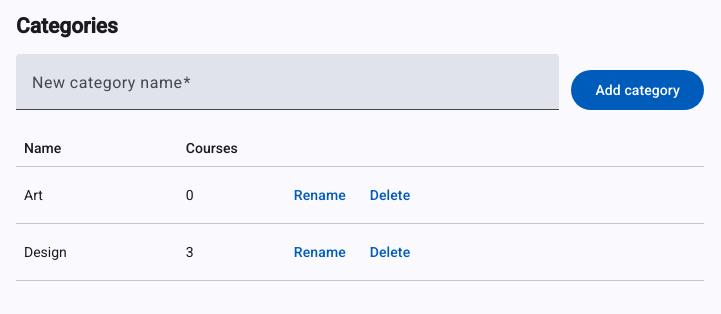
Test: AdminCategoriesComponent › US-27 S3: renames inline
This screenshot has width=721, height=314.
Click the button "Rename" at (320, 195), box [282,175,358,215]
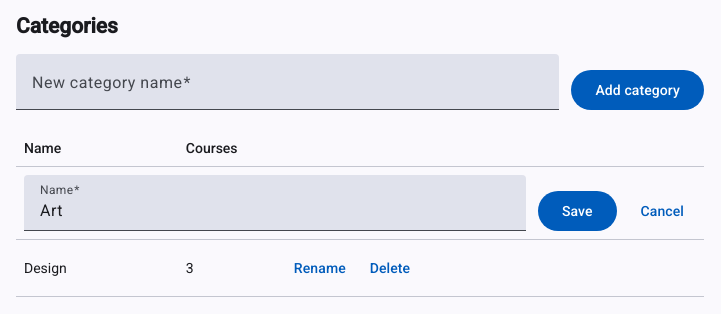
Expected: the field labelled "Name" holds "Art"
Replace the text in the field labelled "Name" with "Fine Art" at (275, 211), box [40,199,510,223]
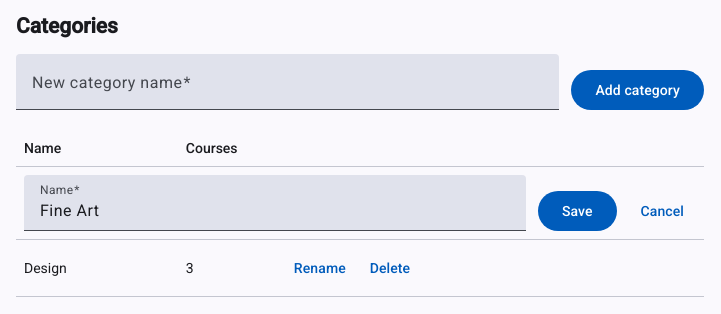
Submit the form with class "rename", box [24,175,696,231]
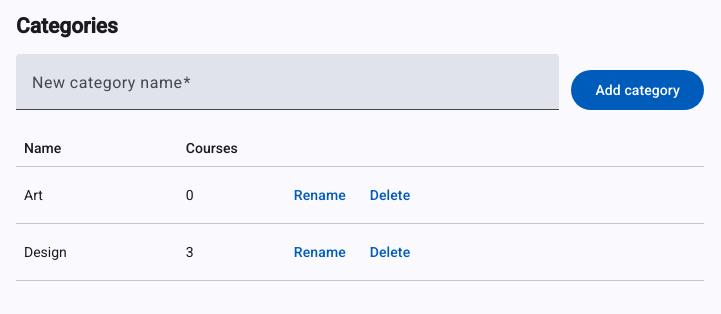
Expected: the form with class "rename" is gone
